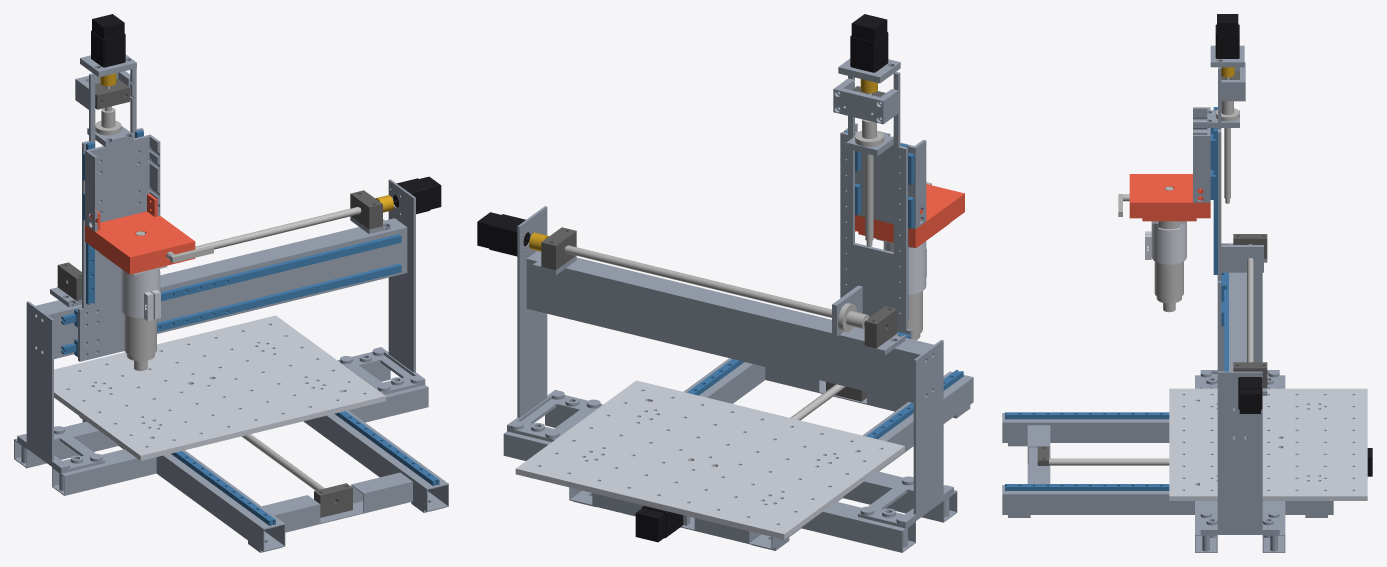
The model's file is light_home.glb.
3 views of the same model, side by side, from view 1: azimuth 30°, elevation 25°; view 2: azimuth 150°, elevation 25°; view 3: azimuth 270°, elevation 25° (orthographic). The views are drawn at different scales.
Visible parts, largest first — view 1: table, beam, frame_cross_rear, upright_R, z_slide, upright_L, x_carriage, tooldock_master, frame_longeron_L, frame_longeron_R, frame_cross_bf, x_rail_bot (+18 smaller); view 2: table, beam, x_carriage, upright_R, upright_L, frame_cross_rear, z_slide, frame_longeron_L, tooldock_master, x_screw, frame_longeron_R, z_motor (+15 smaller); view 3: table, upright_R, frame_longeron_R, frame_longeron_L, tooldock_master, upright_L, frame_cross_rear, beam, z_slide, head_mount, head_spindle, y_rail_L (+13 smaller).
Part boxes in pixels (x1,y1,x2,y2): table: (54,315,385,460); beam: (36,218,407,358); frame_cross_rear: (14,352,428,495); upright_R: (338,179,425,394); z_slide: (85,134,160,231); upright_L: (17,301,104,473); x_carriage: (78,68,143,361); tooldock_master: (85,193,195,274); frame_longeron_L: (79,416,285,552); frame_longeron_R: (303,410,448,512); frame_cross_bf: (262,472,412,532); x_rail_bot: (61,263,401,354); table: (515,380,904,539); beam: (526,251,933,402); x_carriage: (840,71,912,339); upright_R: (507,206,602,442); upright_L: (858,340,953,528); frame_cross_rear: (503,395,957,552); z_slide: (844,123,926,229); frame_longeron_L: (748,371,973,550); tooldock_master: (855,184,964,247); x_screw: (564,245,867,325); frame_longeron_R: (569,358,765,507); z_motor: (850,14,888,72); table: (1169,388,1367,500); upright_R: (1200,371,1279,534); frame_longeron_R: (1002,485,1333,517); frame_longeron_L: (1002,413,1169,446); tooldock_master: (1129,174,1210,218); upright_L: (1200,243,1279,388); frame_cross_rear: (1195,375,1285,552); beam: (1229,244,1247,438); z_slide: (1193,107,1210,202); head_mount: (1145,221,1186,264); head_spindle: (1154,221,1183,312); y_rail_L: (1005,412,1169,419).
Bounding box in the file's own units: 737 × 789 × 654.
